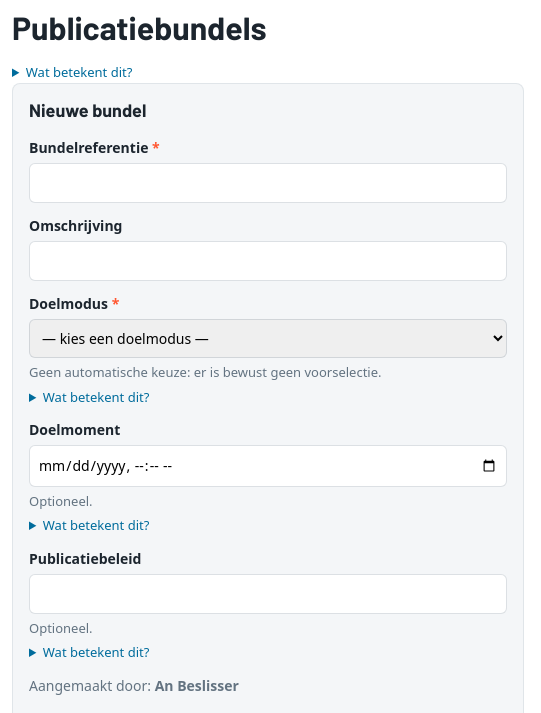
it: NT-11b — bundelschermen: geen ruwe codes als zichtbare tekst › bundellijst met elke status en doelmodus, en het aanmaakformulier met de waarschuwing voor een echte publicatie
Select "Echte publicatie" in the dropdown labelled "Doelmodus *" at (268, 339), box [29,319,507,358]
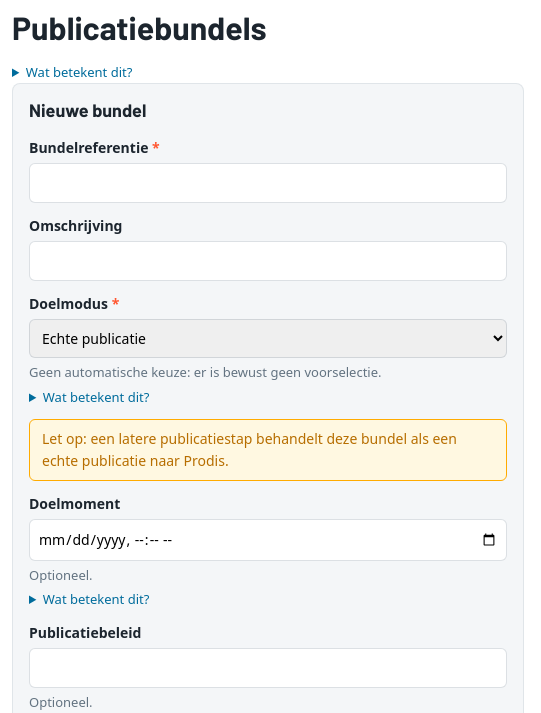
Result: the message is shown at [29,419,507,481]
Result: the message shows "echte publicatie" at [42,429,457,470]
